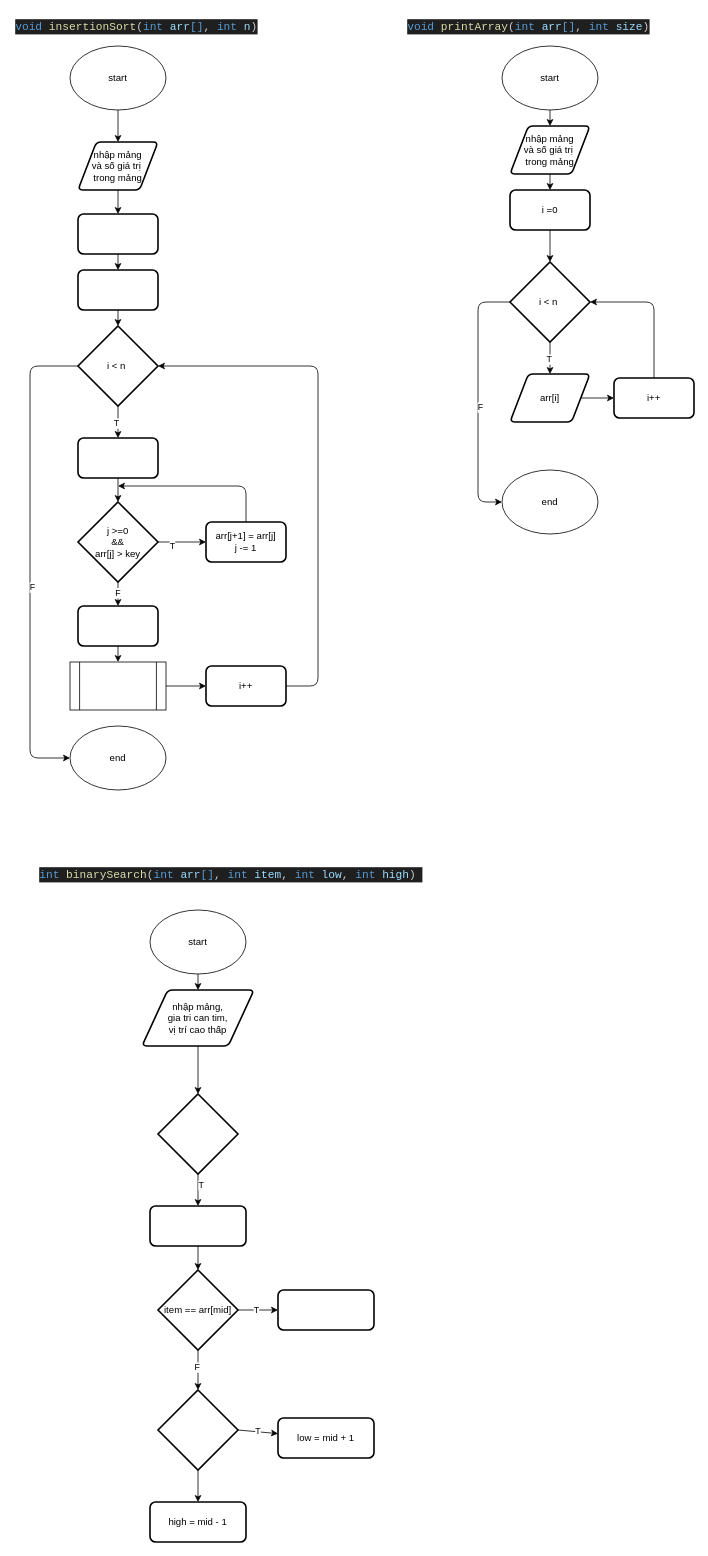
This 708x1556 diagram has some shape labels left out. Each missing label, with the box of its shape:
arr[j+1] = key: (77, 605, 158, 646)
i =1: (77, 269, 158, 310)
int i,j,key: (77, 213, 158, 254)
int mid = (low+high)/2: (149, 1205, 246, 1246)
item > arr[mid]: (157, 1389, 238, 1470)
key = arr[i] j=i-1: (77, 437, 158, 478)
low <= high: (157, 1093, 238, 1174)
printArray(arr,n): (69, 661, 166, 710)
return mid+1: (277, 1289, 374, 1330)
